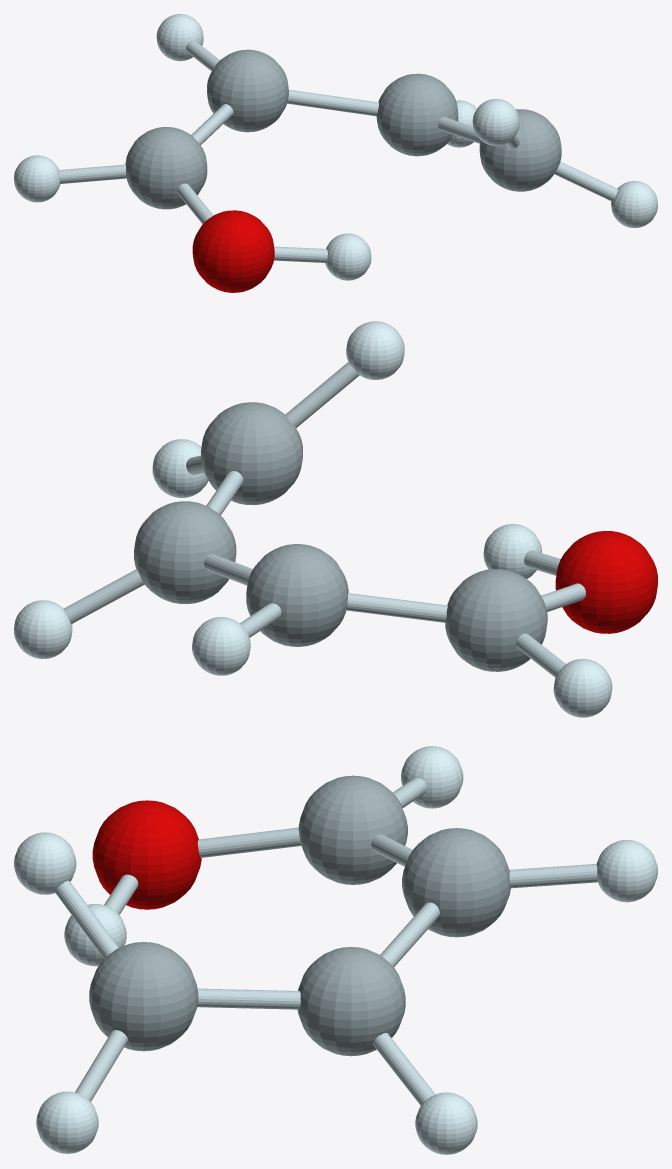
The model's file is irc_066.glb.
3 renders of one model, top to bottom at view 1: azimuth 30°, elevation 25°; view 2: azimuth 150°, elevation 25°; view 3: azimuth 270°, elevation 25°, orthographic. The views are drawn at different scales.
Parts seen in each view (by area): view 1: Renderer Node; view 2: Renderer Node; view 3: Renderer Node.
Part boxes in pixels (x1,y1,x2,y2): Renderer Node: (14, 14, 657, 292); Renderer Node: (14, 321, 657, 717); Renderer Node: (14, 746, 657, 1154).
Size of the model in its own units: 4.89 by 1.71 by 4.12.
